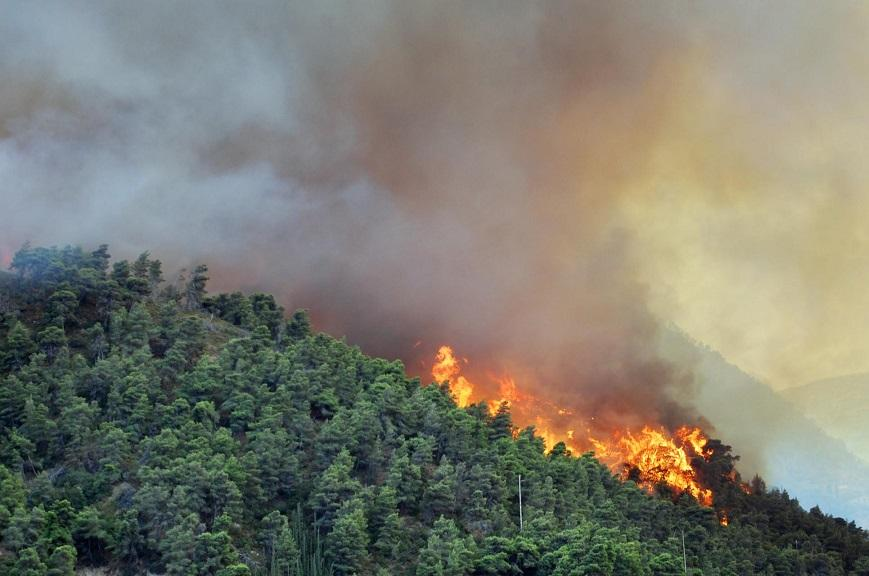Fire: (413, 329, 758, 542)
